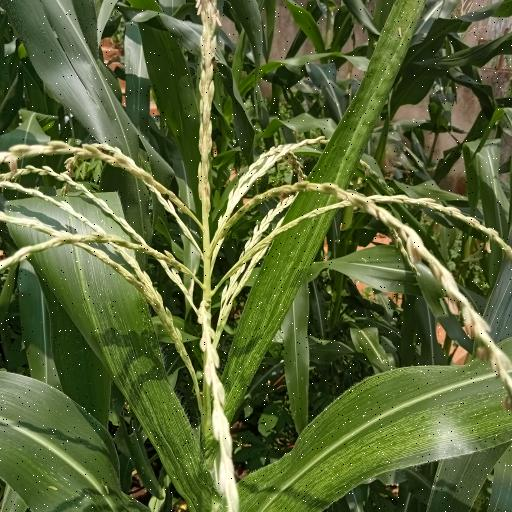Corn_Streak: (246, 364, 512, 512)
